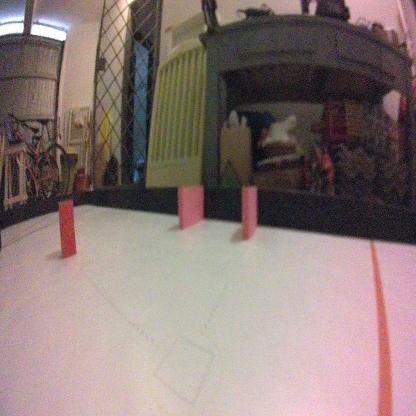magenta: (178, 185, 204, 225), (241, 183, 257, 238)
red: (57, 195, 76, 256)
